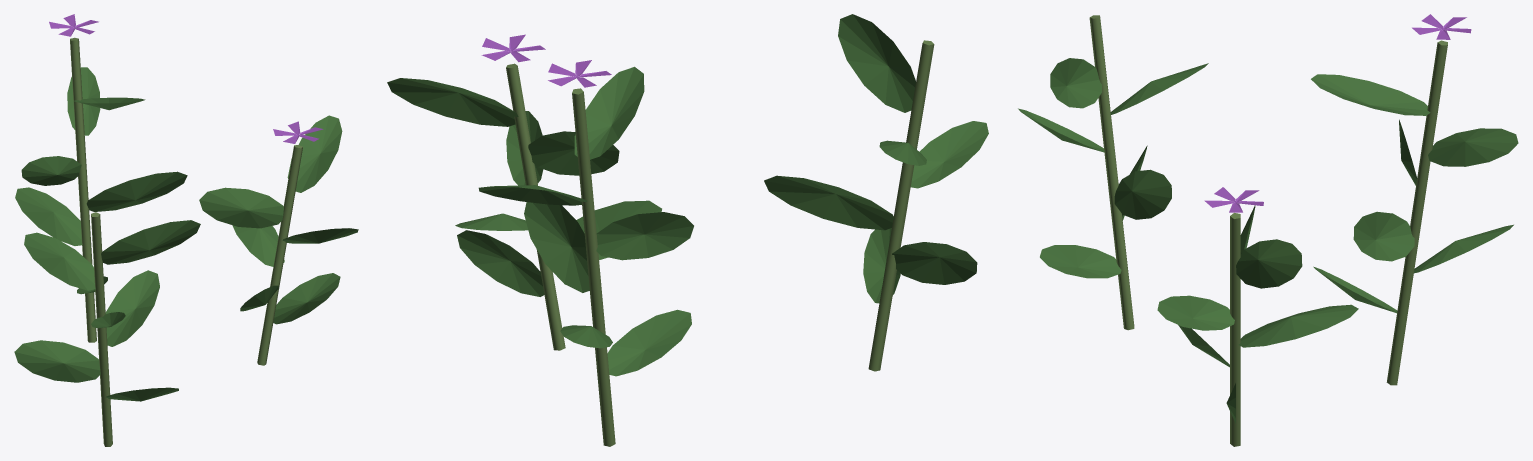
Rendered from cuphea-hyssopifolia.glb.
3 renders of one model, left to right at view 1: azimuth 30°, elevation 25°; view 2: azimuth 150°, elevation 25°; view 3: azimuth 270°, elevation 25°, orthographic. The views are drawn at different scales.
Visible parts, largest first — view 1: Species leaves, Species stems, Species flowers / bracts; view 2: Species leaves, Species stems, Species flowers / bracts; view 3: Species leaves, Species stems, Species flowers / bracts.
Boxes of the visible parts, x1,y1,x2,y2 form: Species leaves: (14, 67, 358, 401); Species stems: (70, 37, 302, 446); Species flowers / bracts: (49, 14, 323, 143); Species leaves: (387, 14, 988, 376); Species stems: (506, 40, 934, 446); Species flowers / bracts: (481, 34, 611, 87); Species leaves: (1018, 58, 1518, 423); Species stems: (1089, 15, 1447, 446); Species flowers / bracts: (1204, 14, 1471, 212).
Size of the model in its own units: 0.3695 by 0.2725 by 0.3443.
